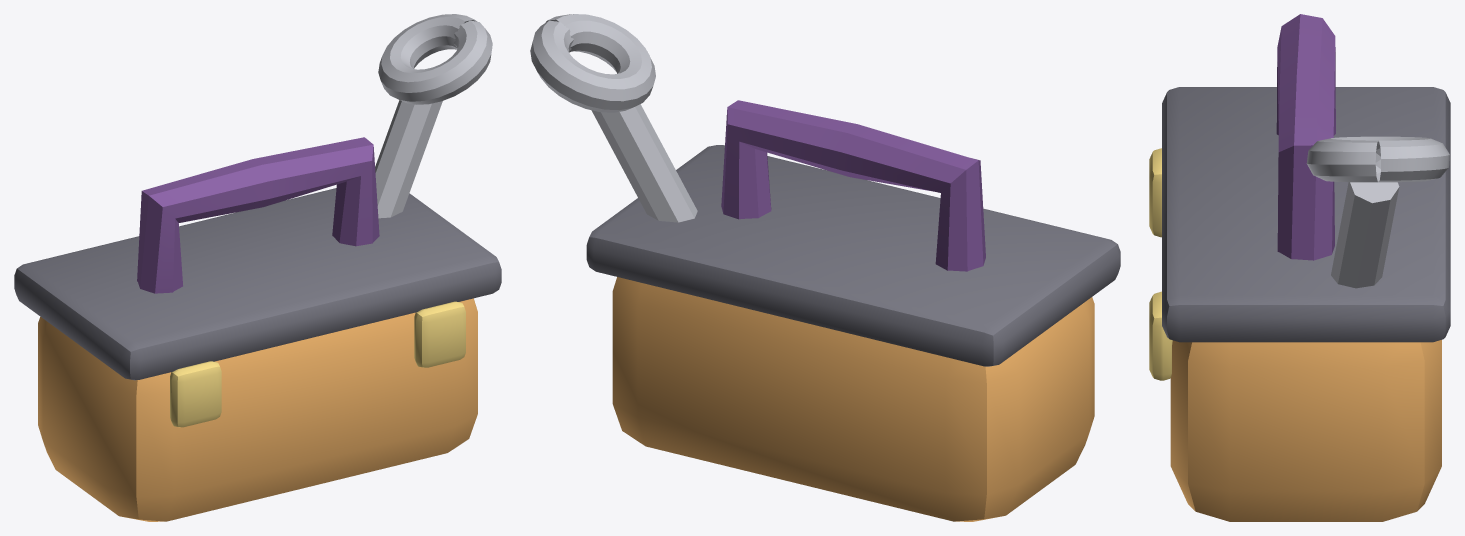
The model's file is ITEM_Toolbox.fbx.
3 renders of one model, left to right at view 1: azimuth 30°, elevation 25°; view 2: azimuth 150°, elevation 25°; view 3: azimuth 270°, elevation 25°, orthographic. The views are drawn at different scales.
Parts seen in each view (by area): view 1: ITEM_Toolbox; view 2: ITEM_Toolbox; view 3: ITEM_Toolbox.
Part boxes in pixels (x1,y1,x2,y2): ITEM_Toolbox: (14,14,501,521); ITEM_Toolbox: (530,14,1120,521); ITEM_Toolbox: (1149,14,1450,521).
Bounding box in the file's own units: 0.73 × 0.5683 × 0.355.
